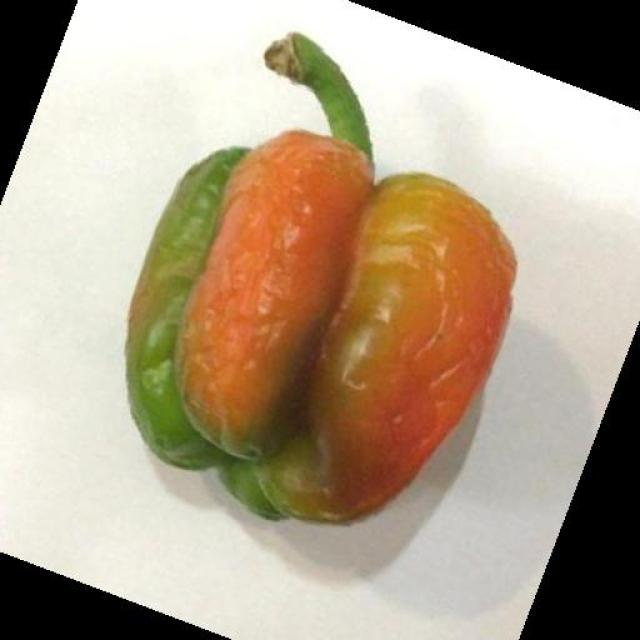Stale_Capsicum: (144, 119, 492, 532)
